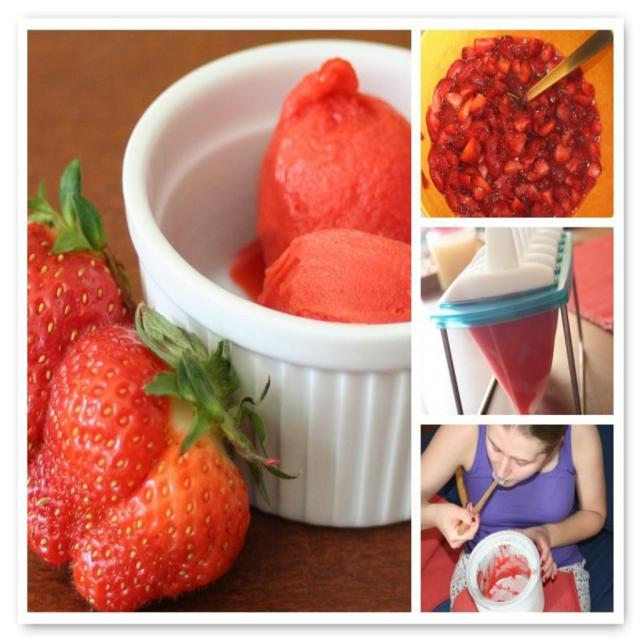Strawberry: (30, 164, 300, 610), (28, 153, 140, 454)
